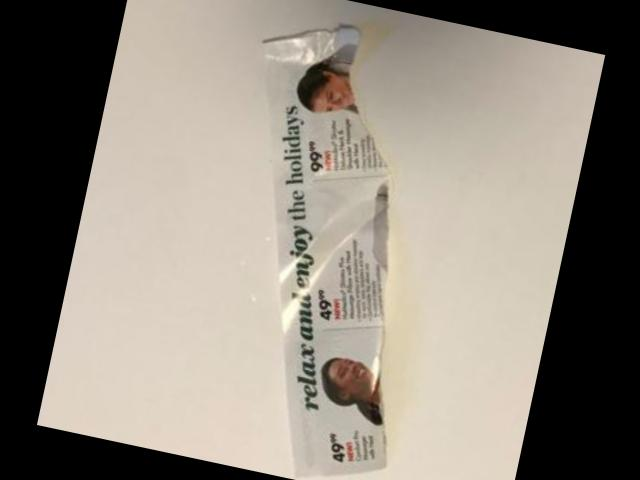cardboard paper: (259, 28, 384, 479)
